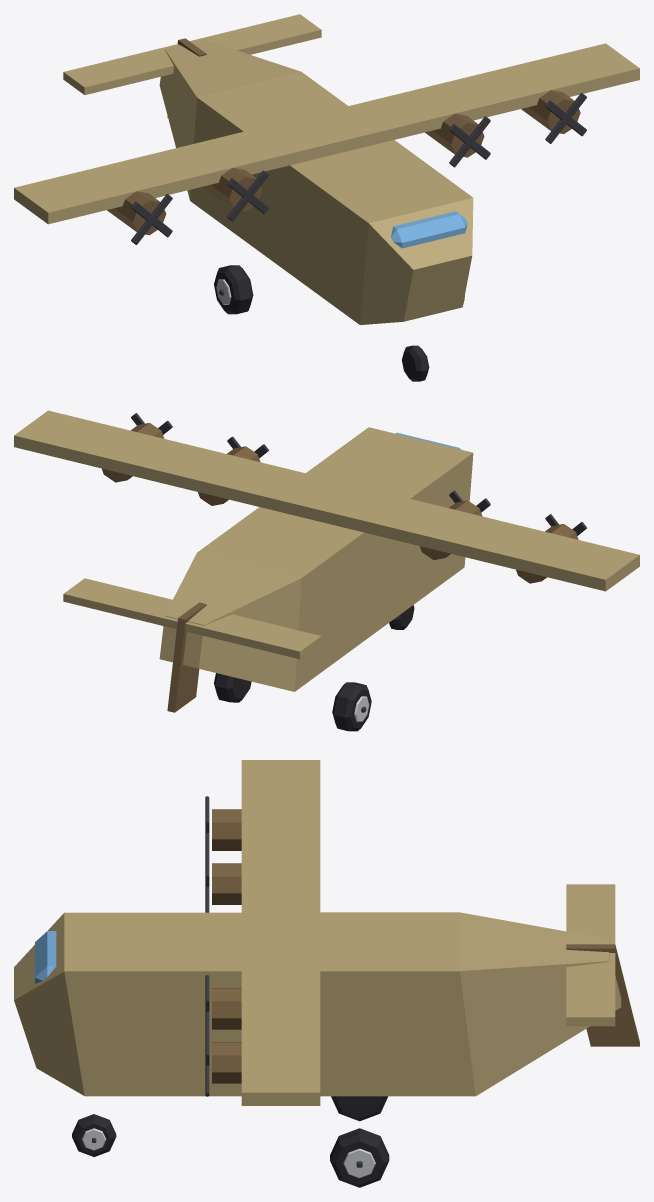
The model's file is CargoPlane.fbx.
3 views of the same model, one above another, from view 1: azimuth 30°, elevation 25°; view 2: azimuth 150°, elevation 25°; view 3: azimuth 270°, elevation 25° (orthographic). The views are drawn at different scales.
Visible parts, largest first — view 1: CargoPlane, CargoPlane_WheelR, CargoPlane_PropL1, CargoPlane_PropL0, CargoPlane_PropR1, CargoPlane_PropR0, CargoPlane_WheelF; view 2: CargoPlane, CargoPlane_WheelR, CargoPlane_WheelL; view 3: CargoPlane, CargoPlane_WheelL, CargoPlane_WheelF, CargoPlane_WheelR.
Boxes of the visible parts, x1,y1,x2,y2 form: CargoPlane: (14,14,639,324); CargoPlane_WheelR: (214,265,253,314); CargoPlane_PropL1: (545,93,586,143); CargoPlane_PropL0: (449,116,490,167); CargoPlane_PropR1: (131,194,172,244); CargoPlane_PropR0: (227,170,268,221); CargoPlane_WheelF: (402,345,429,381); CargoPlane: (14,410,639,712); CargoPlane_WheelR: (332,682,371,731); CargoPlane_WheelL: (214,673,251,702); CargoPlane: (14,760,639,1105); CargoPlane_WheelL: (330,1128,389,1187); CargoPlane_WheelF: (72,1114,116,1156); CargoPlane_WheelR: (331,1096,387,1121).
Bounding box in the file's own units: 16 × 5.15 × 12.73.
Materials: 1 (1 with a texture image).
